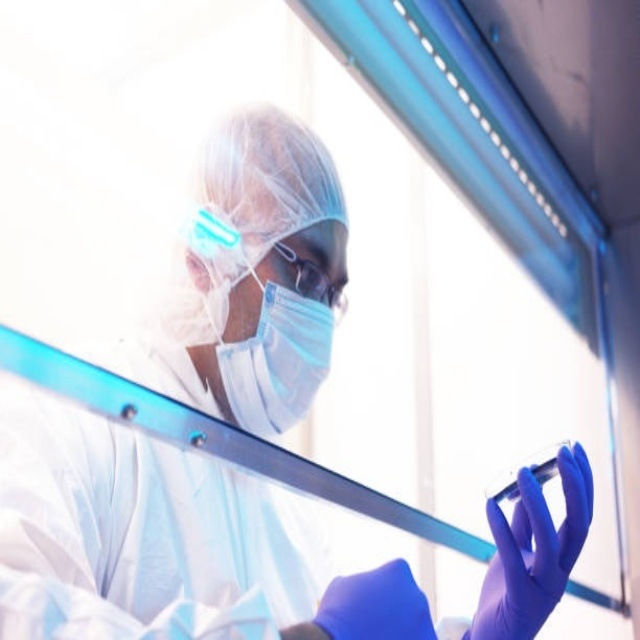Gafas: (267, 239, 349, 316)
Guantes: (465, 438, 593, 631), (309, 558, 442, 640)
Mascara: (209, 246, 339, 445)
